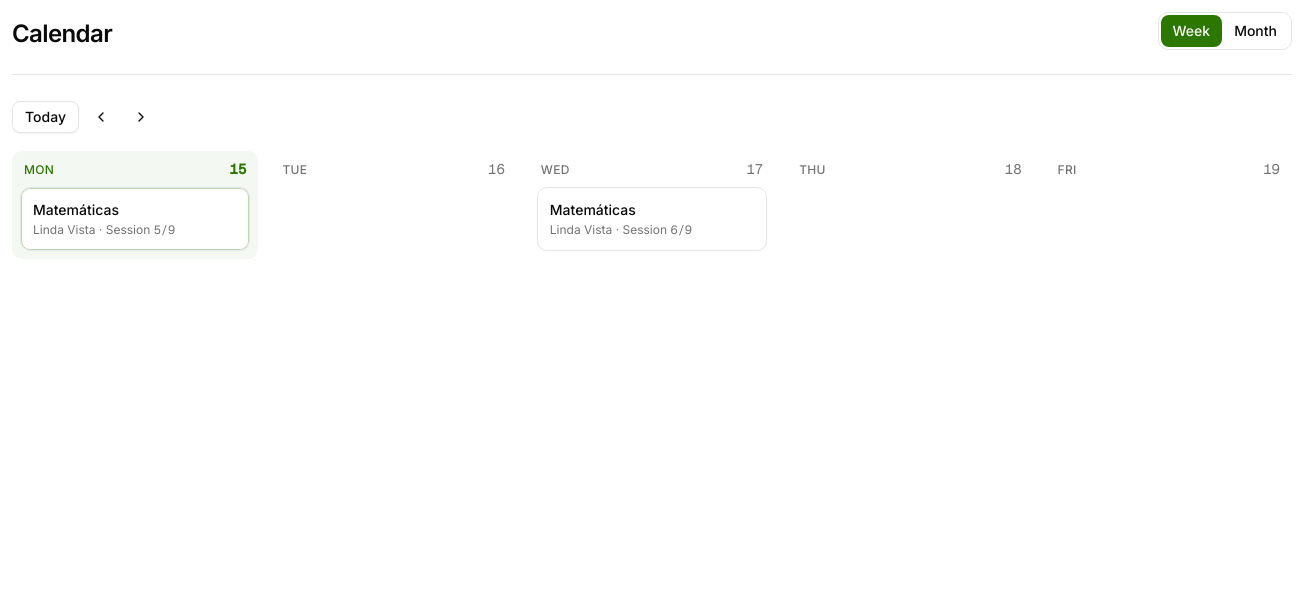
Test: <CalendarPage /> › a milestone row is the same navigator move a day tap is
Step 1. Click the button "Month" → [1256, 31], box [1222, 15, 1289, 47]
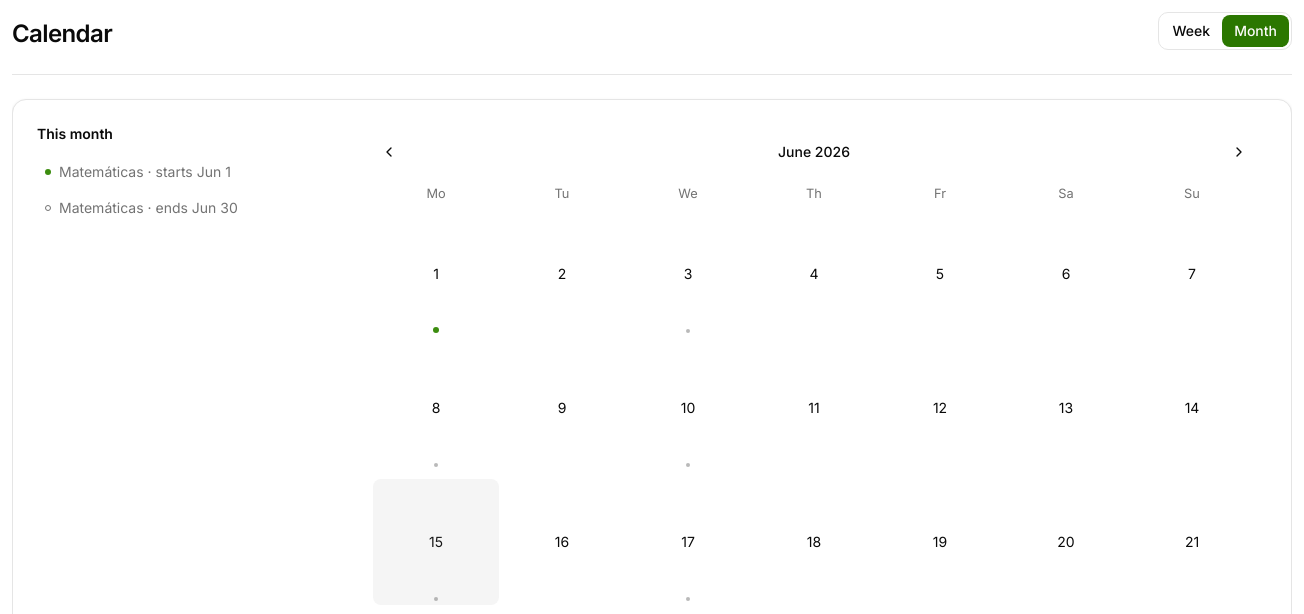
Step 2. Click the button "Matemáticas · starts Jun 1" → [187, 172], box [37, 156, 337, 188]
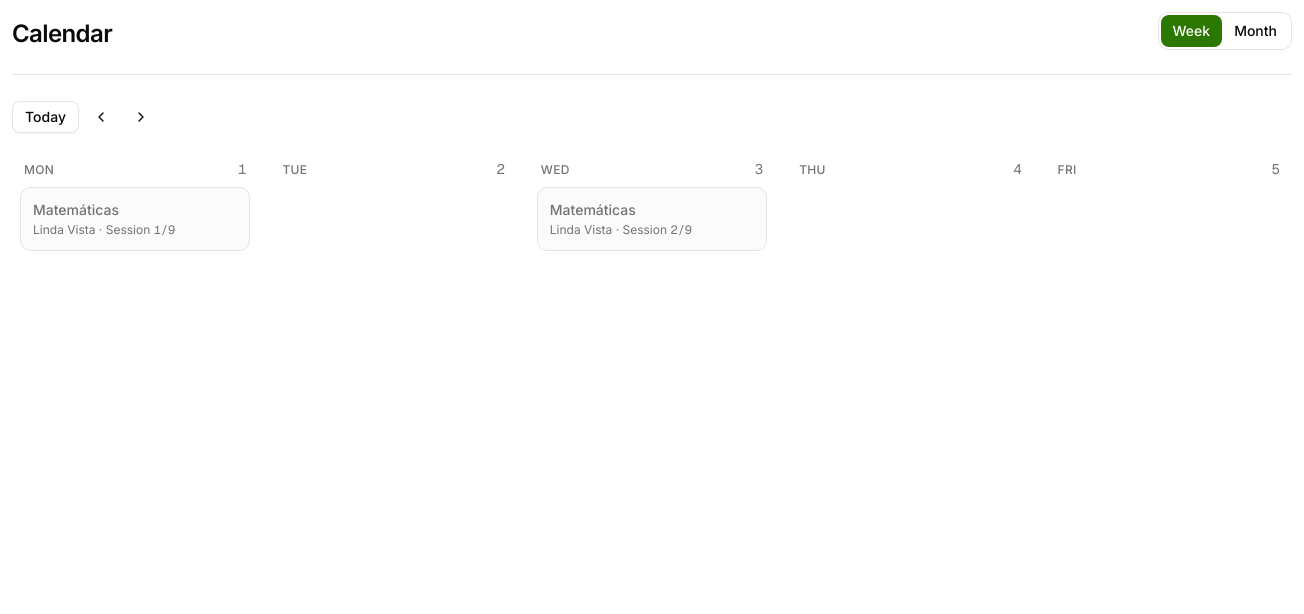
Check: the text "1" is shown, box [238, 159, 246, 179]
Check: the heading "June 2026" is gone
Check: the button "Today" is shown, box [12, 101, 79, 133]
